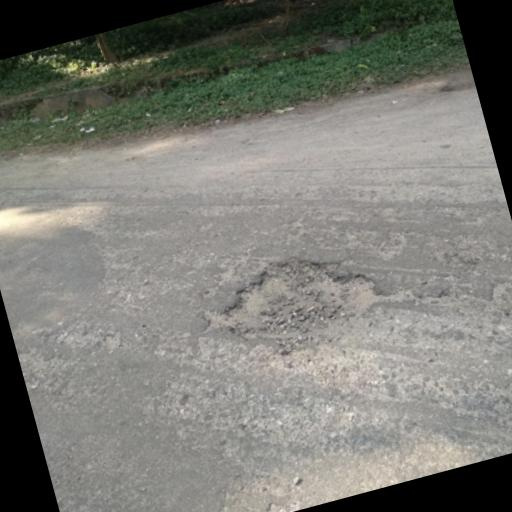pothole: (188, 232, 402, 372)
